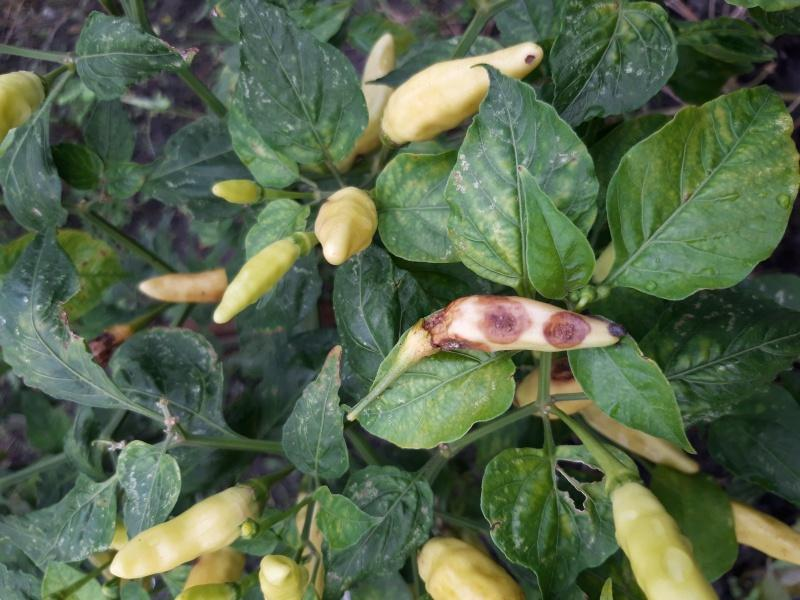antraknosa: (409, 293, 629, 362)
cabai_normal: (380, 40, 545, 145), (107, 483, 261, 582), (605, 477, 718, 600), (208, 230, 305, 330), (416, 533, 522, 600), (311, 186, 380, 267), (138, 269, 228, 303), (260, 551, 307, 600), (212, 178, 263, 206)
